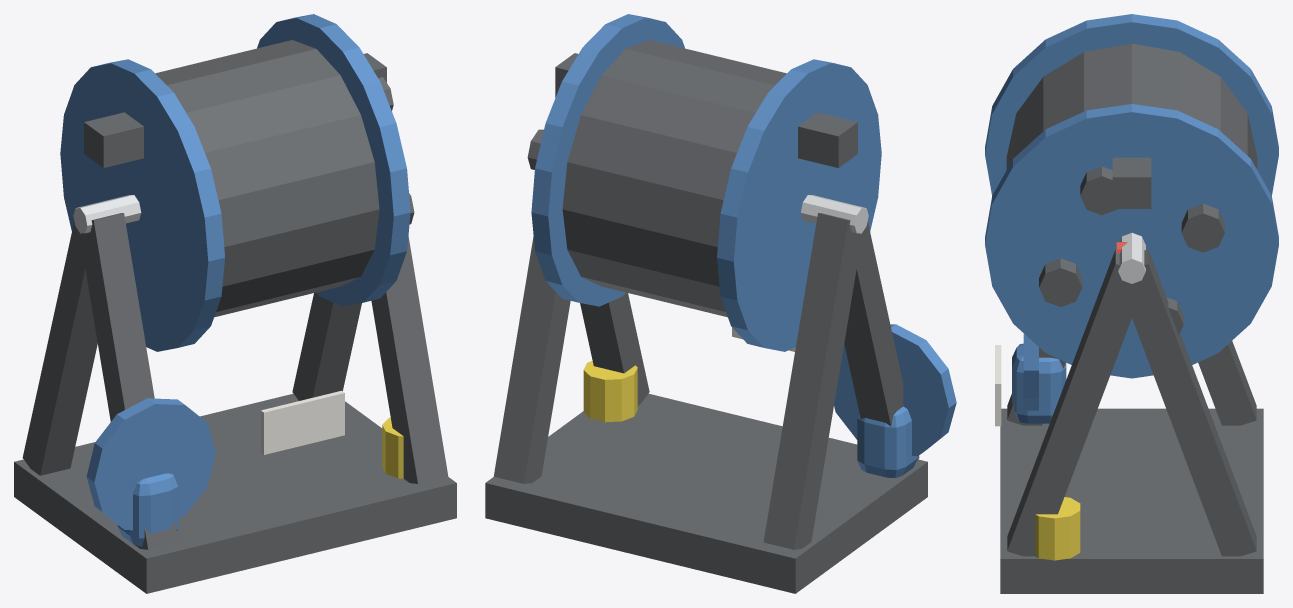
File: tool-hire-depot-and-plant-yard-tool-hire-depot-and-pla-94a6ecfd.glb
3 renders of one model, left to right at view 1: azimuth 30°, elevation 25°; view 2: azimuth 150°, elevation 25°; view 3: azimuth 270°, elevation 25°, orthographic.
Visible parts, largest first — view 1: tool-hire-depot-and-plant-yard-extension-lead-drum, reel-spin/charcoal, reel-spin/blue; view 2: tool-hire-depot-and-plant-yard-extension-lead-drum, reel-spin/charcoal, reel-spin/blue; view 3: tool-hire-depot-and-plant-yard-extension-lead-drum, reel-spin/blue, reel-spin/charcoal.
Part boxes in pixels (x1=…): tool-hire-depot-and-plant-yard-extension-lead-drum: x1=14, y1=53, x2=456, y2=593; reel-spin/charcoal: x1=155, y1=40, x2=414, y2=317; reel-spin/blue: x1=60, y1=14, x2=410, y2=351; tool-hire-depot-and-plant-yard-extension-lead-drum: x1=485, y1=53, x2=956, y2=593; reel-spin/charcoal: x1=527, y1=40, x2=786, y2=317; reel-spin/blue: x1=531, y1=14, x2=881, y2=351; tool-hire-depot-and-plant-yard-extension-lead-drum: x1=995, y1=157, x2=1263, y2=593; reel-spin/blue: x1=985, y1=14, x2=1278, y2=378; reel-spin/charcoal: x1=1006, y1=43, x2=1257, y2=335.
Size of the model in its own units: 0.525 by 0.65 by 0.38.
